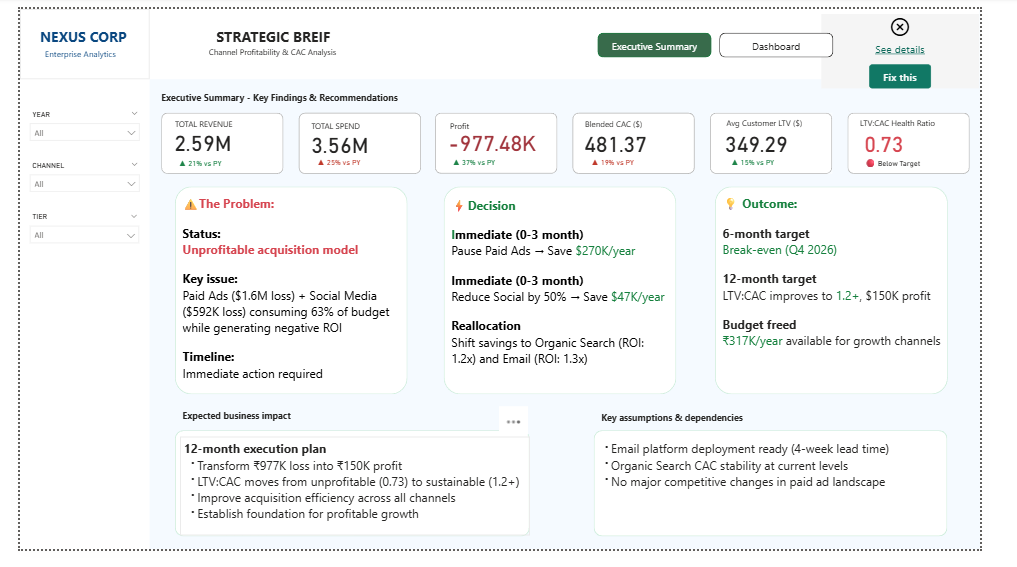

The dashboard page shown, as its layout file describes it:
{"tool":"powerbi","page":{"name":"Executive Summary","canvas":[1280,720],"ordinal":0},"visuals":[{"type":"shape","box":[0,0,172.9,720],"z":0},{"type":"shape","box":[172.3,0,1107.7,93.8],"z":1000},{"type":"shape","box":[920,139,162.9,81.4],"z":1000,"group":"g1"},{"type":"textbox","box":[188.2,108.2,320.9,24.5],"z":2000},{"type":"shape","box":[1102.8,139,162.9,81.4],"z":2000,"group":"g1"},{"type":"textbox","box":[26.7,22.5,128.8,29.6],"z":3000},{"type":"shape","box":[371.4,139,163.1,81.5],"z":3000,"group":"g2"},{"type":"shape","box":[737.1,139,162.9,81.4],"z":4000,"group":"g1"},{"type":"shape","box":[207.1,237.1,310,277.1],"z":4000},{"type":"textbox","box":[261.8,22.7,160.9,27.3],"z":5000},{"type":"shape","box":[188.6,139,162.9,81.4],"z":5000,"group":"g3"},{"type":"textbox","box":[246.4,40.9,206.4,30.9],"z":6000},{"type":"shape","box":[554.3,139,163.1,81.2],"z":6000,"group":"g1"},{"type":"slicer","fields":{"Values":["Calendar Table.year"]},"box":[7.9,130,156.4,67.9],"z":7000},{"type":"card","fields":{"Values":[" measure.Blended CAC"]},"box":[741.7,165.9,104.6,27.7],"z":7000,"group":"g1"},{"type":"card","fields":{"Values":[" measure.total ad spend"]},"box":[384.9,164.9,82.9,30],"z":8000,"group":"g2"},{"type":"textbox","box":[217.1,248.6,290,265.7],"z":8000},{"type":"card","fields":{"Values":[" measure.net profit"]},"box":[563,166,132,26],"z":9000,"group":"g1"},{"type":"slicer","fields":{"Values":["dim_acquisition_channel.acquisition_channel"]},"box":[7.9,197.9,156.4,68.6],"z":9000},{"type":"card","fields":{"Values":[" measure.average portfolio"]},"box":[936.2,165.9,90,27.5],"z":10000,"group":"g1"},{"type":"slicer","fields":{"Values":["dim_customers.membership_tier"]},"box":[7.9,267.1,155.7,67.9],"z":10000},{"type":"actionButton","box":[1101.2,33.8,145,32.5],"z":11000},{"type":"card","fields":{"Values":[" measure.Total Revenue"]},"box":[188.6,152.6,110.7,51.4],"z":11000,"group":"g3"},{"type":"textbox","box":[33.3,49.6,106.2,19.2],"z":12000},{"type":"card","fields":{"Values":[" measure.Global LTV_CAC Ratio"]},"box":[1122.4,165.9,60,27.7],"z":12000,"group":"g1"},{"type":"shape","box":[927.1,237.1,310.4,277.1],"z":13000},{"type":"textbox","box":[573,144.9,133.1,17.7],"z":14000,"group":"g1"},{"type":"textbox","box":[931.6,242.6,306,271.7],"z":14000},{"type":"group","id":"g1","title":"Group 3","box":[188.6,139,1077.1,81.5],"z":15000},{"type":"card","fields":{"Values":[" measure.Last Updated"]},"box":[1068.5,6.2,210,28.5],"z":16000},{"type":"textbox","box":[753.8,144,90.7,18.7],"z":16000,"group":"g1"},{"type":"shape","box":[565.7,237.1,310,277.1],"z":17000},{"type":"textbox","box":[1119.9,143.2,107.3,18.7],"z":18000,"group":"g1"},{"type":"textbox","box":[575.7,250,291.4,250],"z":18000},{"type":"shape","box":[0,0,172.7,93.6],"z":19000},{"type":"card","fields":{"Values":[" measure.Profit YoY Insight"]},"box":[562.8,197.5,83.3,15],"z":20000,"group":"g1"},{"type":"textbox","box":[217.1,531.4,320,25.7],"z":20000},{"type":"textbox","box":[388.9,145.2,79.4,18.8],"z":20001,"group":"g2"},{"type":"shape","box":[207.1,561.4,472.9,141.4],"z":21000},{"type":"textbox","box":[942,143.2,119.3,18.7],"z":22000,"group":"g1"},{"type":"textbox","box":[207.3,144.3,85,18],"z":22000,"group":"g3"},{"type":"textbox","box":[212.9,570,467.1,131.4],"z":22000},{"type":"group","id":"g2","title":"Group 1","box":[371.4,139,163.1,81.5],"z":23000,"group":"g1"},{"type":"shape","box":[765.7,561.4,471.4,141.4],"z":23000},{"type":"group","id":"g3","title":"Group 2","box":[188.6,139,162.9,81.4],"z":24000,"group":"g1"},{"type":"card","fields":{"Values":[" measure.Spend YoY Insight"]},"box":[383.1,197.3,83.3,15],"z":24000,"group":"g2"},{"type":"textbox","box":[775.7,534.3,320,25.7],"z":24000},{"type":"card","fields":{"Values":[" measure.Revenue YoY Insight"]},"box":[197.8,198.2,83.5,15.9],"z":25000,"group":"g3"},{"type":"textbox","box":[765.7,570,421.4,122.9],"z":25000},{"type":"pageNavigator","box":[770.6,31.9,315.3,33.1],"z":26000},{"type":"card","fields":{"Values":[" measure.Blended CAC YoY Insight"]},"box":[748.6,197.5,83.3,15],"z":26000,"group":"g1"},{"type":"card","fields":{"Values":[" measure.CLV YoY Insight"]},"box":[936.1,197.5,83.3,15],"z":28000,"group":"g1"},{"type":"card","fields":{"Values":[" measure.LTV CAC Status Icon"]},"box":[1121.1,198.3,86.7,15.8],"z":30000,"group":"g1"}]}

Visuals, with their boxes in screenshot pixels (x1, y1, x2, y2), scaled from the page's 1280x720 canvas onto the 1017x567 screenshot:
shape: 0/0/137/566
shape: 137/0/1016/74
shape: 731/109/860/174
textbox: 150/85/404/105
shape: 876/109/1006/174
textbox: 21/18/124/41
shape: 295/109/425/174
shape: 586/109/715/174
shape: 165/187/411/405
textbox: 208/18/336/39
shape: 150/109/279/174
textbox: 196/32/360/57
shape: 440/109/570/173
slicer - Calendar Table.year: 6/102/131/156
card -  measure.Blended CAC: 589/131/672/152
card -  measure.total ad spend: 306/130/372/153
textbox: 172/196/403/405
card -  measure.net profit: 447/131/552/151
slicer - dim_acquisition_channel.acquisition_channel: 6/156/131/210
card -  measure.average portfolio: 744/131/815/152
slicer - dim_customers.membership_tier: 6/210/130/264
actionButton: 875/27/990/52
card -  measure.Total Revenue: 150/120/238/161
textbox: 26/39/111/54
card -  measure.Global LTV_CAC Ratio: 892/131/939/152
shape: 737/187/983/405
textbox: 455/114/561/128
textbox: 740/191/983/405
"Group 3" group: 150/109/1006/174
card -  measure.Last Updated: 849/5/1016/27
textbox: 599/113/671/128
shape: 449/187/696/405
textbox: 890/113/975/127
textbox: 457/197/689/394
shape: 0/0/137/74
card -  measure.Profit YoY Insight: 447/156/513/167
textbox: 172/418/427/439
textbox: 309/114/372/129
shape: 165/442/540/553
textbox: 748/113/843/127
textbox: 165/114/232/128
textbox: 169/449/540/552
"Group 1" group: 295/109/425/174
shape: 608/442/983/553
"Group 2" group: 150/109/279/174
card -  measure.Spend YoY Insight: 304/155/371/167
textbox: 616/421/871/441
card -  measure.Revenue YoY Insight: 157/156/224/169
textbox: 608/449/943/546
pageNavigator: 612/25/863/51
card -  measure.Blended CAC YoY Insight: 595/156/661/167
card -  measure.CLV YoY Insight: 744/156/810/167
card -  measure.LTV CAC Status Icon: 891/156/960/169
